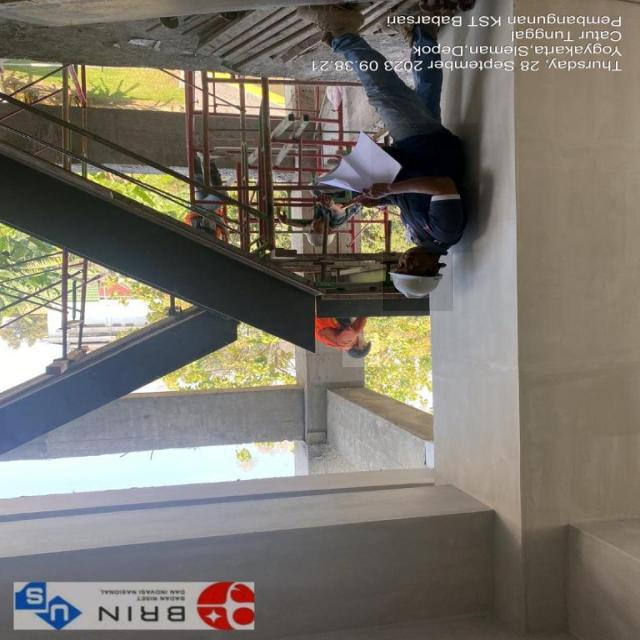Helmet: (371, 124, 479, 252), (383, 250, 453, 311), (342, 333, 380, 367)
Safety Vest: (315, 313, 359, 347)
